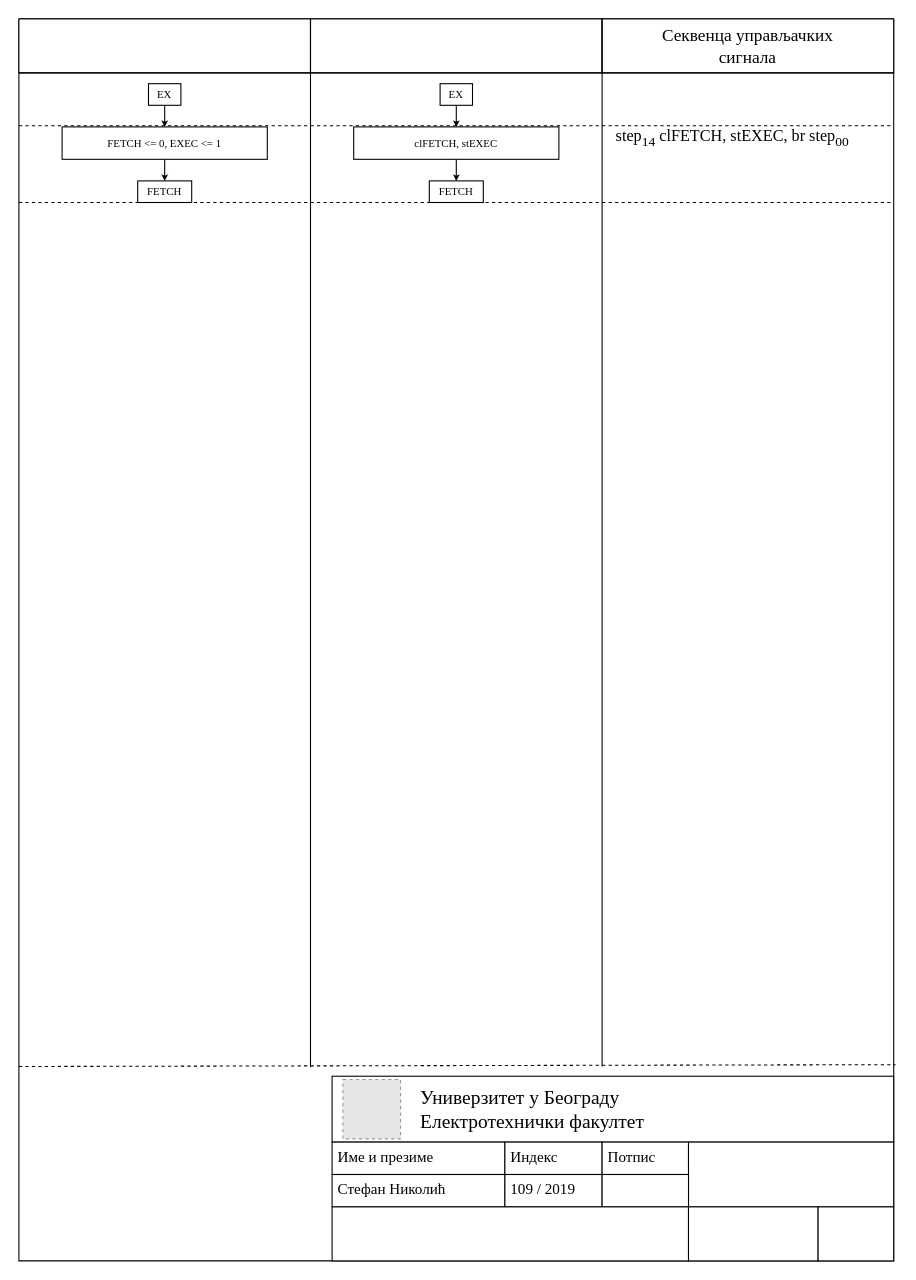
The diagram is 916 pixels wide and 1280 high, and some of its shapes have lost their labels. Grey dashed boxes stand in for pictures. The shapes that lost their labels are listed below. From the top down, each one's centre as x and y in pixels, then its label:
[164,45]: Дијаграм тока микрооперација
[455,45]: Дијаграм тока управљачких сигнала
[790,1174]: Пројекат Задатак 209
[509,1233]: Назив Основи рачунарске технике 2
[752,1233]: Датум 25.09.2021.
[855,1233]: Страна 3
